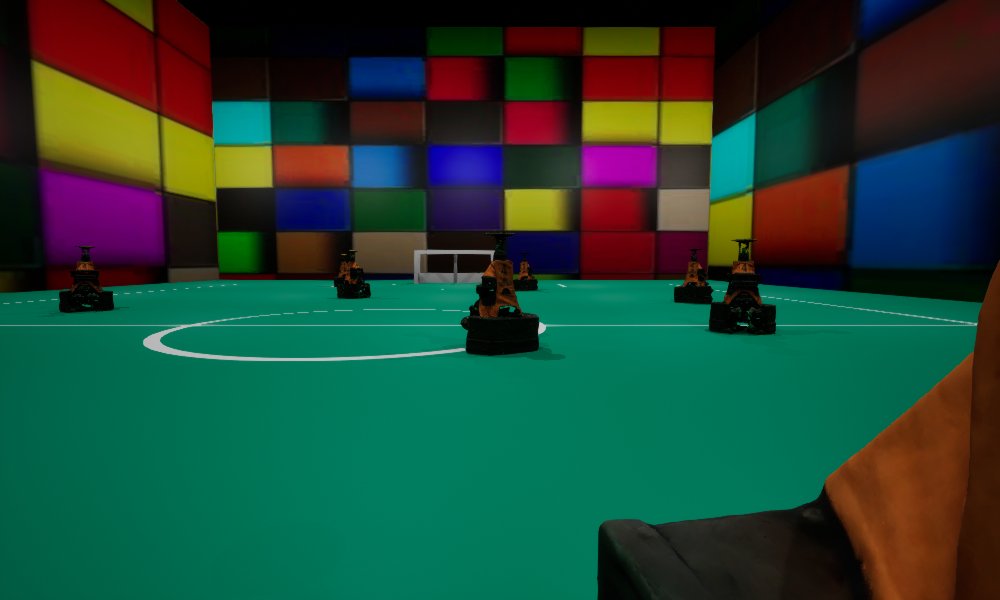0 orange robot TechUnited: (597, 260, 999, 599), (460, 232, 538, 354), (709, 239, 775, 333), (59, 246, 113, 312), (674, 249, 713, 303), (337, 250, 370, 298), (513, 253, 537, 290), (334, 254, 347, 286)
